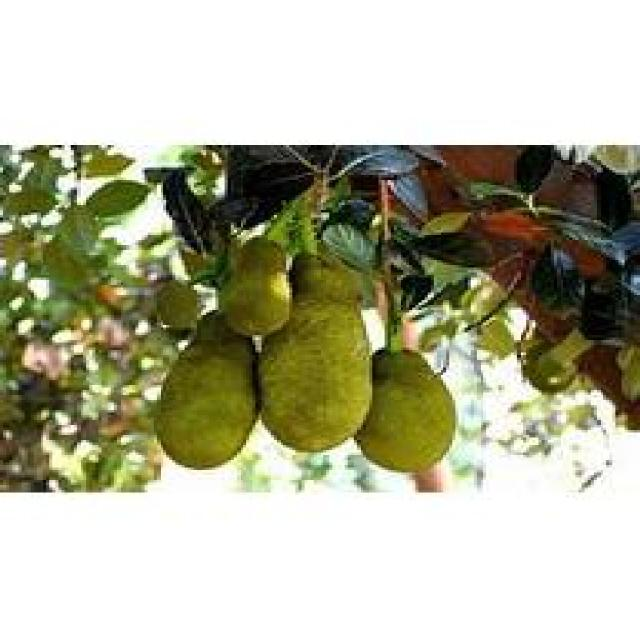Fruit: (219, 232, 483, 490)
